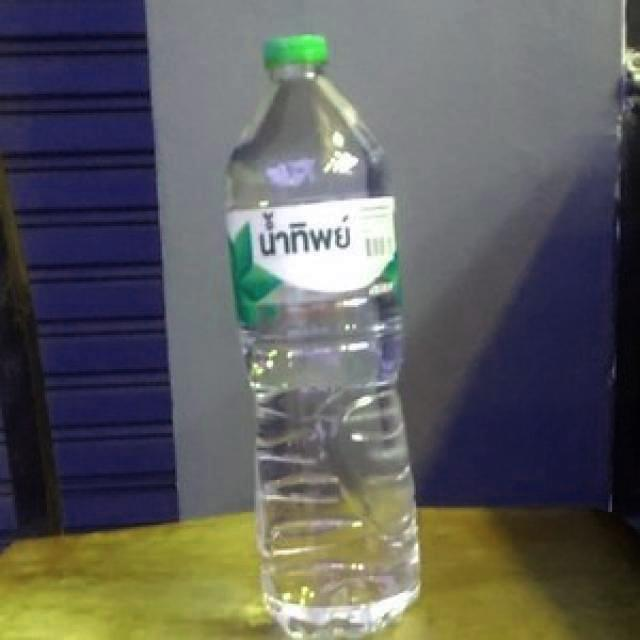bottle: (223, 33, 422, 640)
